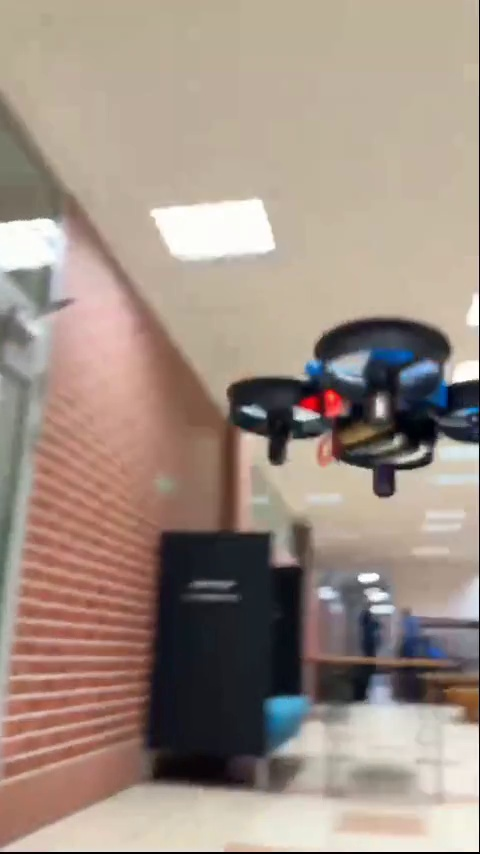drone: (229, 317, 480, 497)
no vest: (389, 605, 420, 656), (357, 598, 382, 652)
